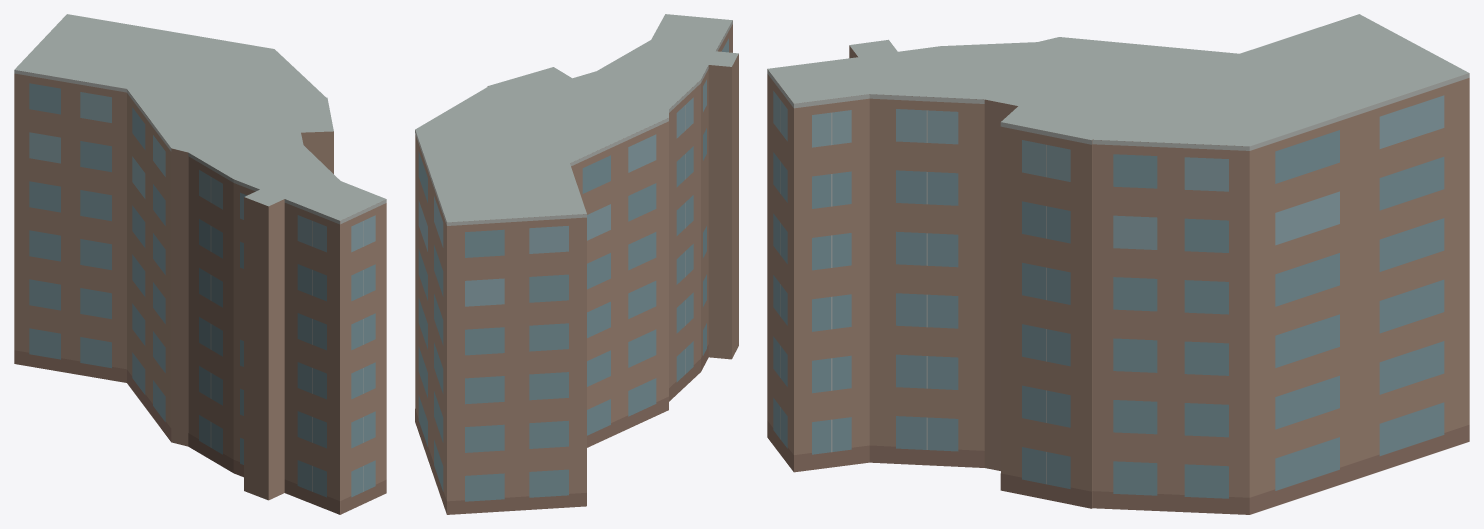
File: survey-upis-32791259.glb
3 renders of one model, left to right at view 1: azimuth 30°, elevation 25°; view 2: azimuth 150°, elevation 25°; view 3: azimuth 270°, elevation 25°, orthographic. The views are drawn at different scales.
Parts seen in each view (by area): view 1: survey-upis-32791259.tmp; view 2: survey-upis-32791259.tmp; view 3: survey-upis-32791259.tmp.
Boxes of the visible parts, box(x1,y1,x2,y2) form: survey-upis-32791259.tmp: box(14, 14, 386, 514); survey-upis-32791259.tmp: box(415, 14, 738, 514); survey-upis-32791259.tmp: box(767, 14, 1469, 514).
Size of the model in its own units: 15.2 by 19.72 by 34.07.
